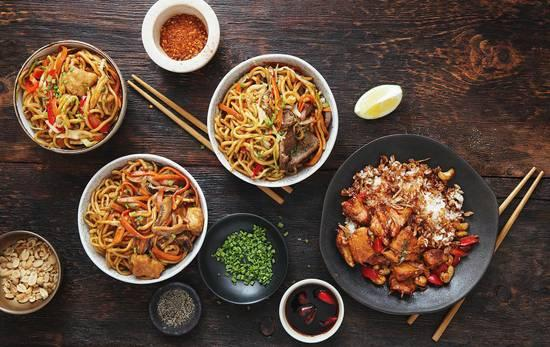Braised Crucian Carp: (320, 133, 496, 316), (206, 54, 337, 189), (77, 153, 206, 284), (10, 39, 123, 154), (1, 229, 62, 313)
